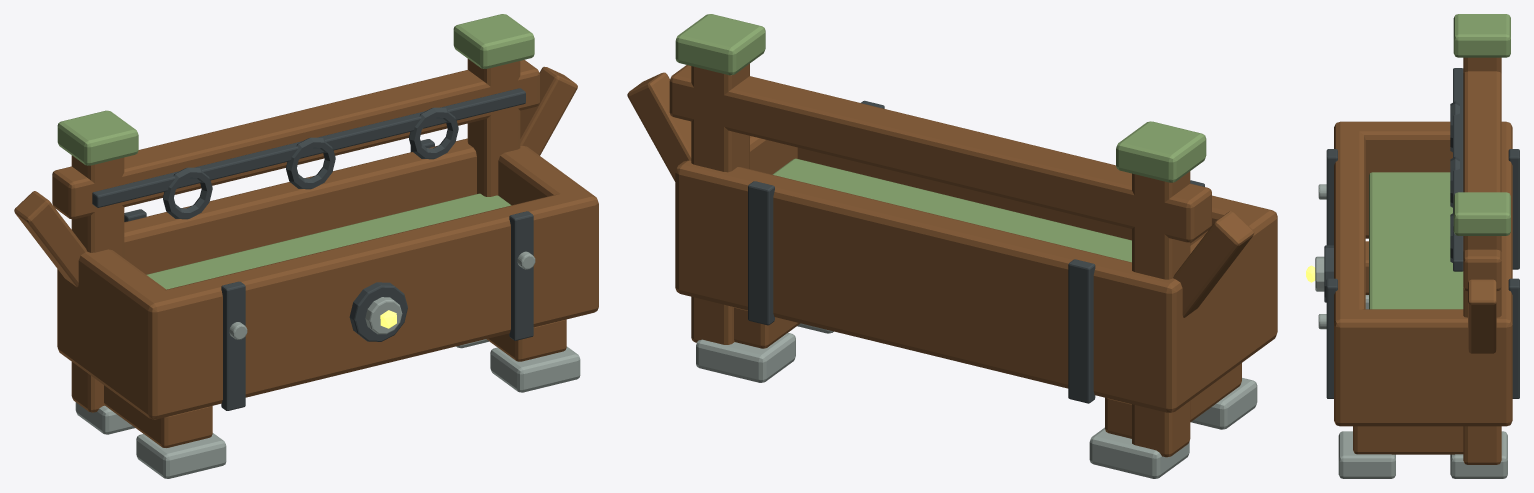
File: SM_EmbermereFenwatchHitchingTrough_01.fbx
3 renders of one model, left to right at view 1: azimuth 30°, elevation 25°; view 2: azimuth 150°, elevation 25°; view 3: azimuth 270°, elevation 25°, orthographic. The views are drawn at different scales.
Parts seen in each view (by area): view 1: SM_EmbermereFenwatchHitchingTrough_01; view 2: SM_EmbermereFenwatchHitchingTrough_01; view 3: SM_EmbermereFenwatchHitchingTrough_01.
Part boxes in pixels (left/top/right/bottom): SM_EmbermereFenwatchHitchingTrough_01: left=14, top=14, right=598, bottom=478; SM_EmbermereFenwatchHitchingTrough_01: left=627, top=14, right=1277, bottom=478; SM_EmbermereFenwatchHitchingTrough_01: left=1306, top=14, right=1519, bottom=478.
Size of what is drawn, in the model's own units: 367 by 134 by 189.
